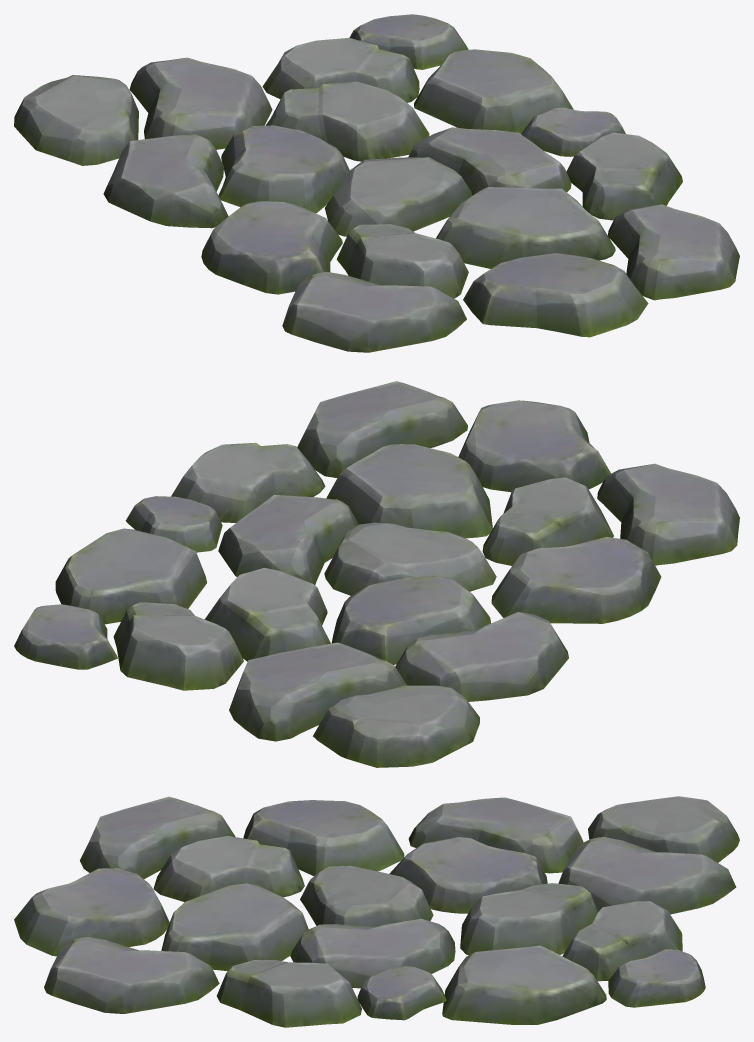
The model's file is Rock_Path_Round_Thin.glb.
3 views of the same model, one above another, from view 1: azimuth 30°, elevation 25°; view 2: azimuth 150°, elevation 25°; view 3: azimuth 270°, elevation 25° (orthographic). The views are drawn at different scales.
Parts seen in each view (by area): view 1: RockPath_Round_Thin; view 2: RockPath_Round_Thin; view 3: RockPath_Round_Thin.
Part boxes in pixels (bbox=[...]): RockPath_Round_Thin: bbox=[14, 14, 739, 352]; RockPath_Round_Thin: bbox=[14, 381, 739, 767]; RockPath_Round_Thin: bbox=[14, 796, 739, 1027].
Size of the model in its own units: 1.46 by 0.1103 by 2.09.
1 material, 1 textured.
